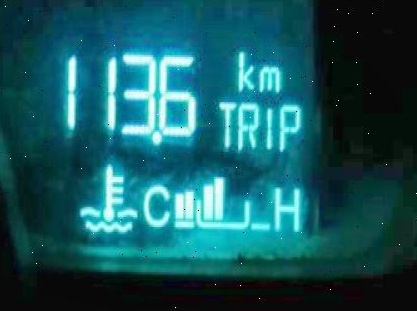-: (150, 128, 161, 145)
1: (60, 48, 80, 133), (100, 52, 117, 132)
3: (119, 48, 155, 135)
6: (157, 50, 197, 136)
X: (270, 182, 300, 232), (140, 180, 170, 228), (276, 100, 300, 151), (236, 100, 259, 151), (215, 97, 236, 148), (235, 47, 254, 92), (256, 62, 280, 92), (261, 103, 274, 150)
